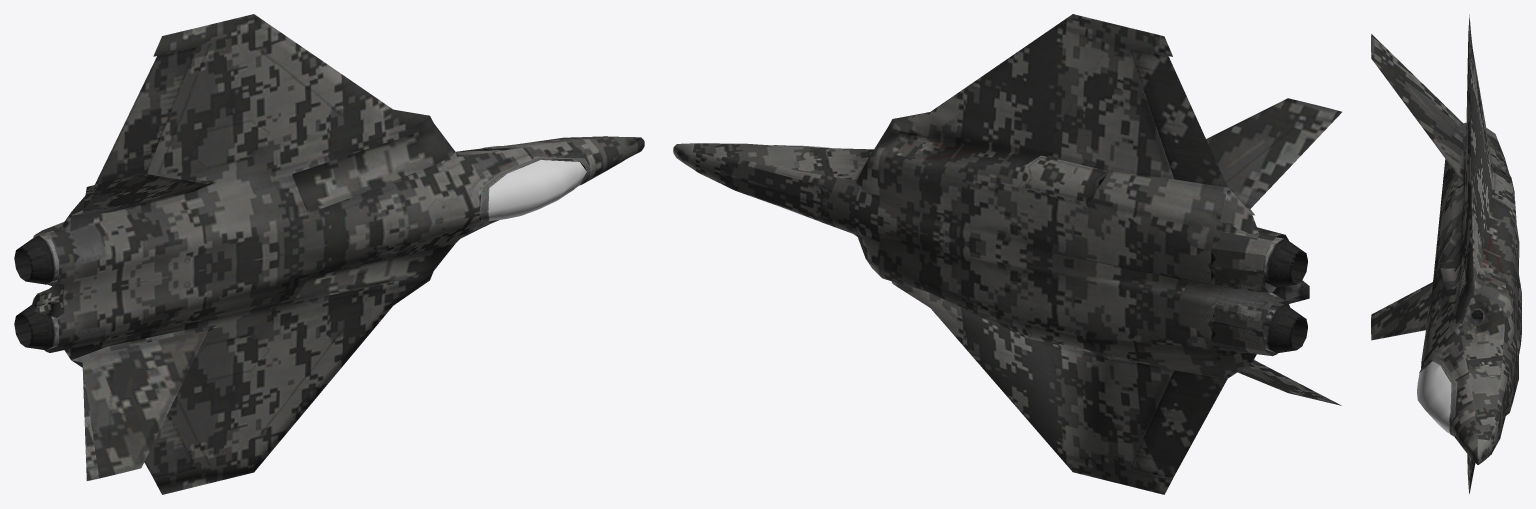
The model's file is veh_t6_air_fa38_killstreak_alt_LOD1.obj.
3 renders of one model, left to right at view 1: azimuth 30°, elevation 25°; view 2: azimuth 150°, elevation 25°; view 3: azimuth 270°, elevation 25°, orthographic. The views are drawn at different scales.
Visible parts, largest first — view 1: mtl_veh_t6_air_fa38_body_enemy, mtl_veh_t6_air_fa38_glass_outside_low, mtl_veh_t6_air_fa38_cockpit_low; view 2: mtl_veh_t6_air_fa38_body_enemy; view 3: mtl_veh_t6_air_fa38_body_enemy, mtl_veh_t6_air_fa38_glass_outside_low, mtl_veh_t6_air_fa38_cockpit_low.
Part boxes in pixels (x1,y1,x2,y2): mtl_veh_t6_air_fa38_body_enemy: [14, 14, 644, 494]; mtl_veh_t6_air_fa38_glass_outside_low: [488, 160, 586, 220]; mtl_veh_t6_air_fa38_cockpit_low: [480, 157, 590, 222]; mtl_veh_t6_air_fa38_body_enemy: [673, 14, 1341, 494]; mtl_veh_t6_air_fa38_body_enemy: [1371, 14, 1521, 493]; mtl_veh_t6_air_fa38_glass_outside_low: [1417, 361, 1451, 433]; mtl_veh_t6_air_fa38_cockpit_low: [1419, 357, 1457, 436].
Bounding box in the file's own units: 1506 × 1059 × 330.
